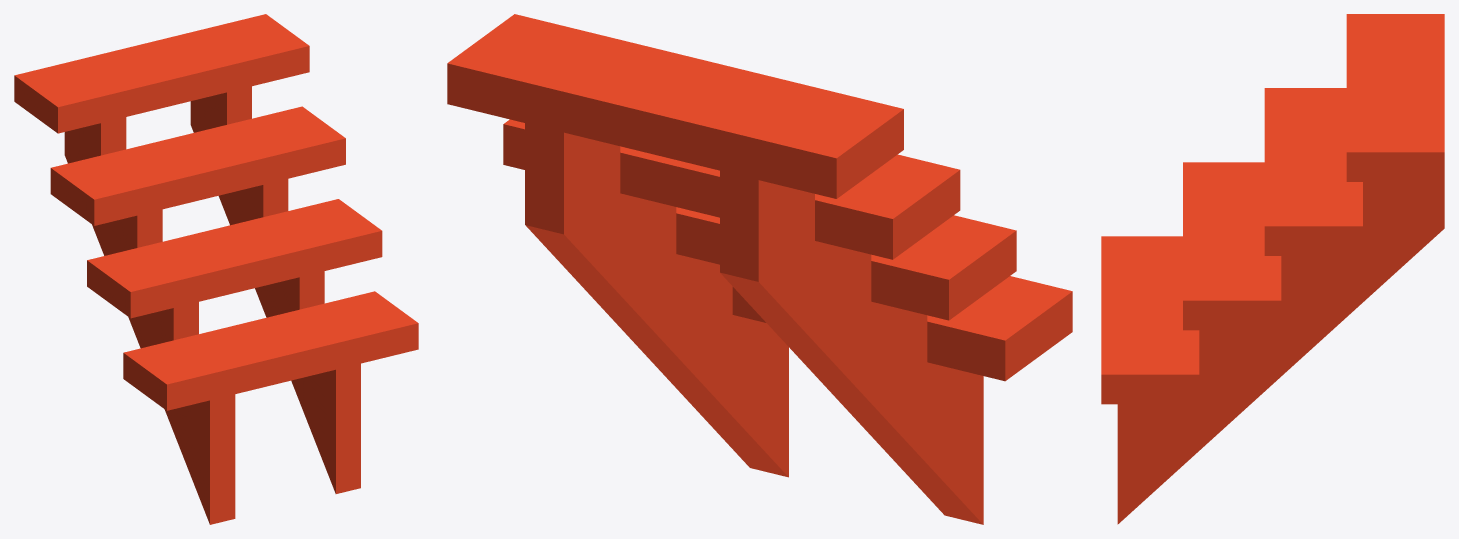
Rendered from SM_Stairs_Wood_Regular_1m_Middle.fbx.
3 views of the same model, side by side, from view 1: azimuth 30°, elevation 25°; view 2: azimuth 150°, elevation 25°; view 3: azimuth 270°, elevation 25° (orthographic). The views are drawn at different scales.
Parts seen in each view (by area): view 1: stairs-wood-regular-1m-middle; view 2: stairs-wood-regular-1m-middle; view 3: stairs-wood-regular-1m-middle.
Boxes of the visible parts, x1,y1,x2,y2 form: stairs-wood-regular-1m-middle: [14, 14, 418, 524]; stairs-wood-regular-1m-middle: [447, 14, 1072, 524]; stairs-wood-regular-1m-middle: [1101, 14, 1444, 524].
Bounding box in the file's own units: 1 × 1.35 × 1.05.
